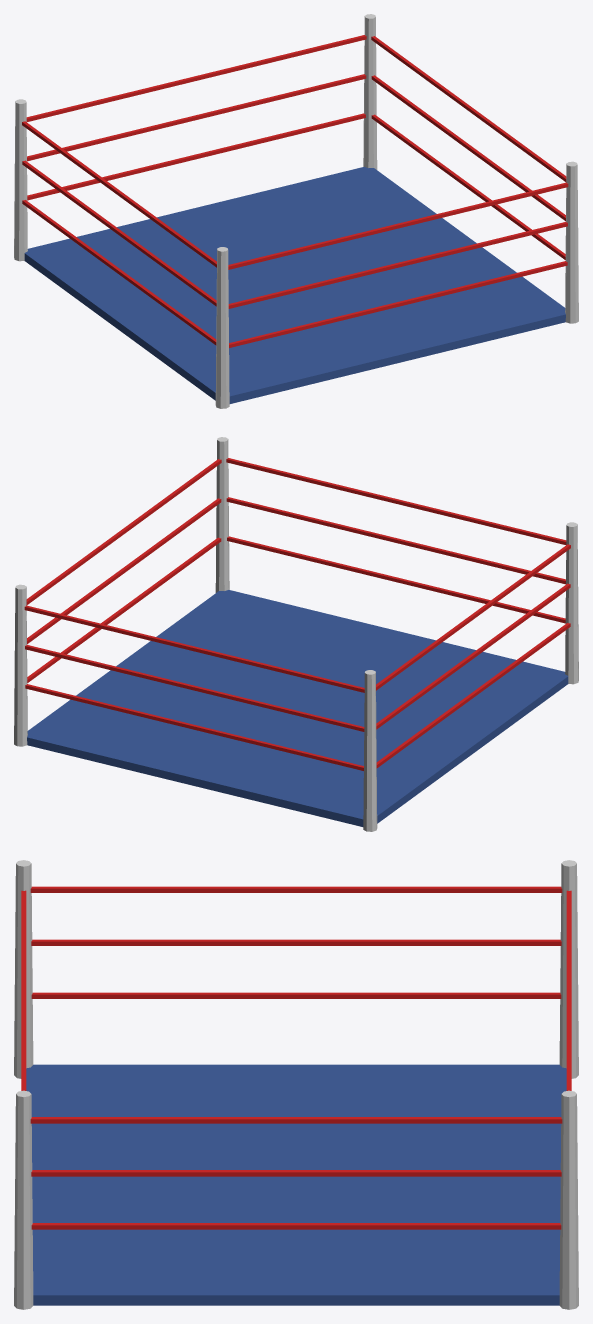
File: fight_ring.glb
The picture shows the model from 3 angles, top to bottom: view 1: azimuth 30°, elevation 25°; view 2: azimuth 150°, elevation 25°; view 3: azimuth 270°, elevation 25°; orthographic projection. The views are drawn at different scales.
Visible parts, largest first — view 1: mat_ring_mat, ropes_ring_rope, posts_ring_post; view 2: mat_ring_mat, ropes_ring_rope, posts_ring_post; view 3: mat_ring_mat, ropes_ring_rope, posts_ring_post.
Boxes of the visible parts, x1,y1,x2,y2 form: mat_ring_mat: [24, 167, 565, 403]; ropes_ring_rope: [22, 35, 568, 347]; posts_ring_post: [14, 14, 578, 408]; mat_ring_mat: [27, 590, 568, 826]; ropes_ring_rope: [24, 458, 570, 770]; posts_ring_post: [14, 437, 578, 831]; mat_ring_mat: [26, 1064, 566, 1305]; ropes_ring_rope: [21, 886, 571, 1229]; posts_ring_post: [14, 860, 578, 1309].
Size of the model in its own units: 2.9 by 1.2 by 2.9.
